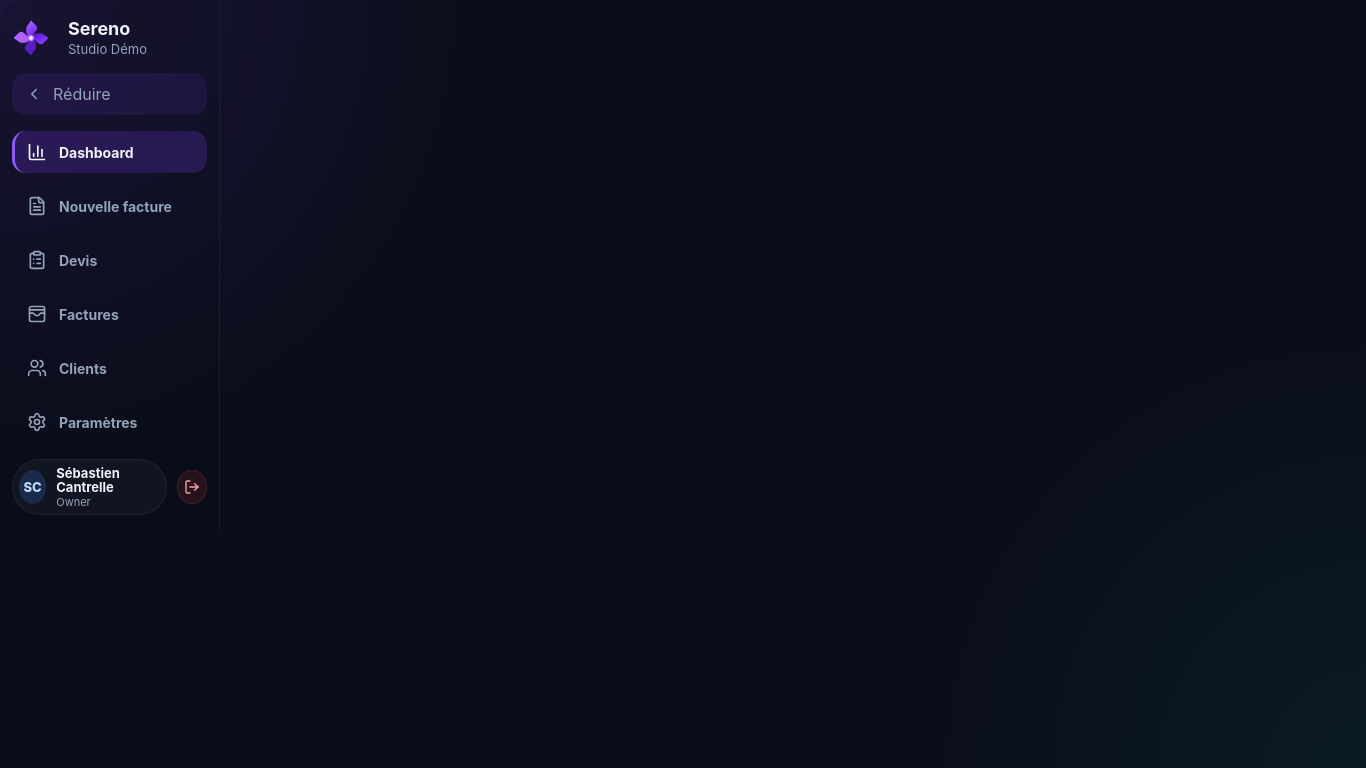
Test: Sidebar › le chevron réduit puis redéploie la sidebar (classe .expanded + libellés conditionnés en JSX)
Expected: the text "Dashboard" is shown, x1=59 y1=144 x2=134 y2=160
Expected: the text "Sereno" is shown, x1=68 y1=18 x2=130 y2=39
Step 1. Click the button with aria-label "Réduire le menu" → coordinates (110, 94), box x1=12 y1=73 x2=207 y2=115
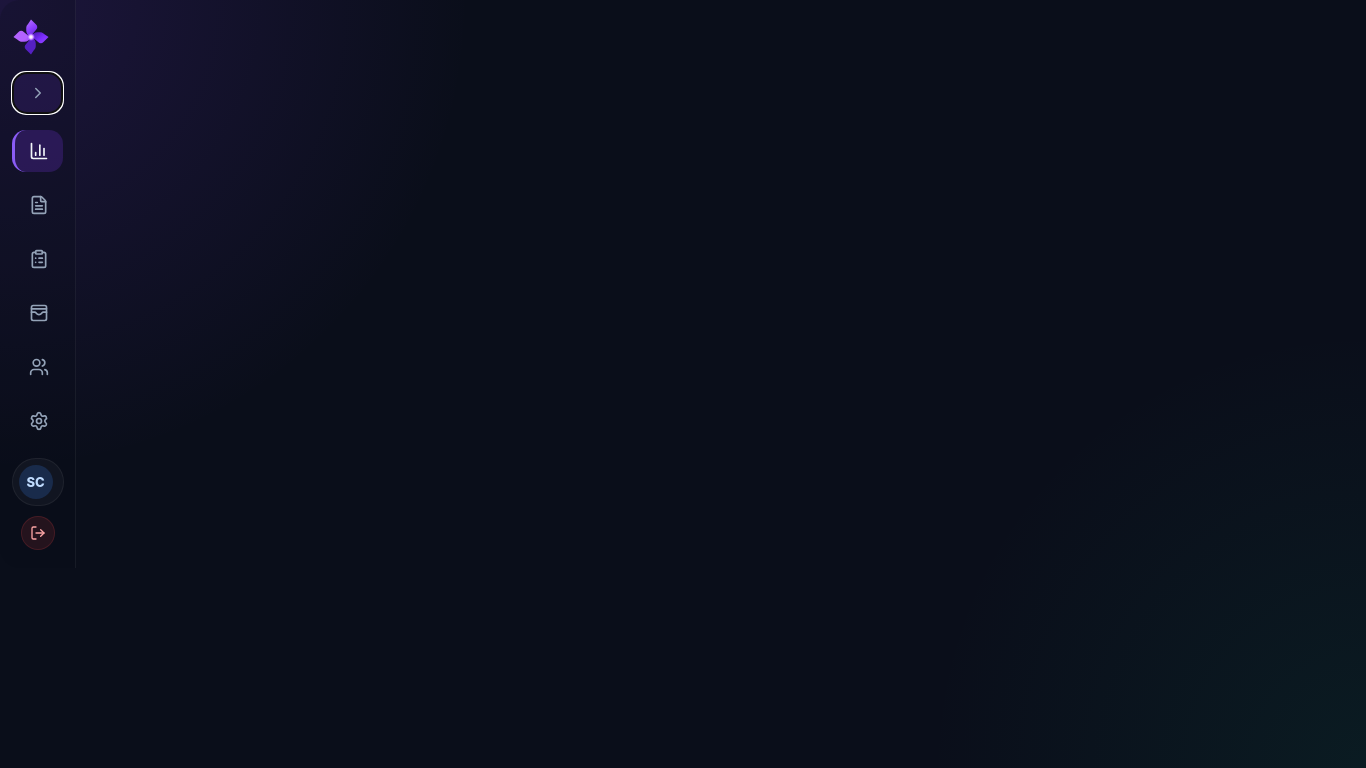
Expected: the text "Sereno" is gone
Expected: the button named "Développer le menu" is shown
Step 2. Click the button named "Développer le menu" → coordinates (38, 93), box x1=12 y1=72 x2=63 y2=114
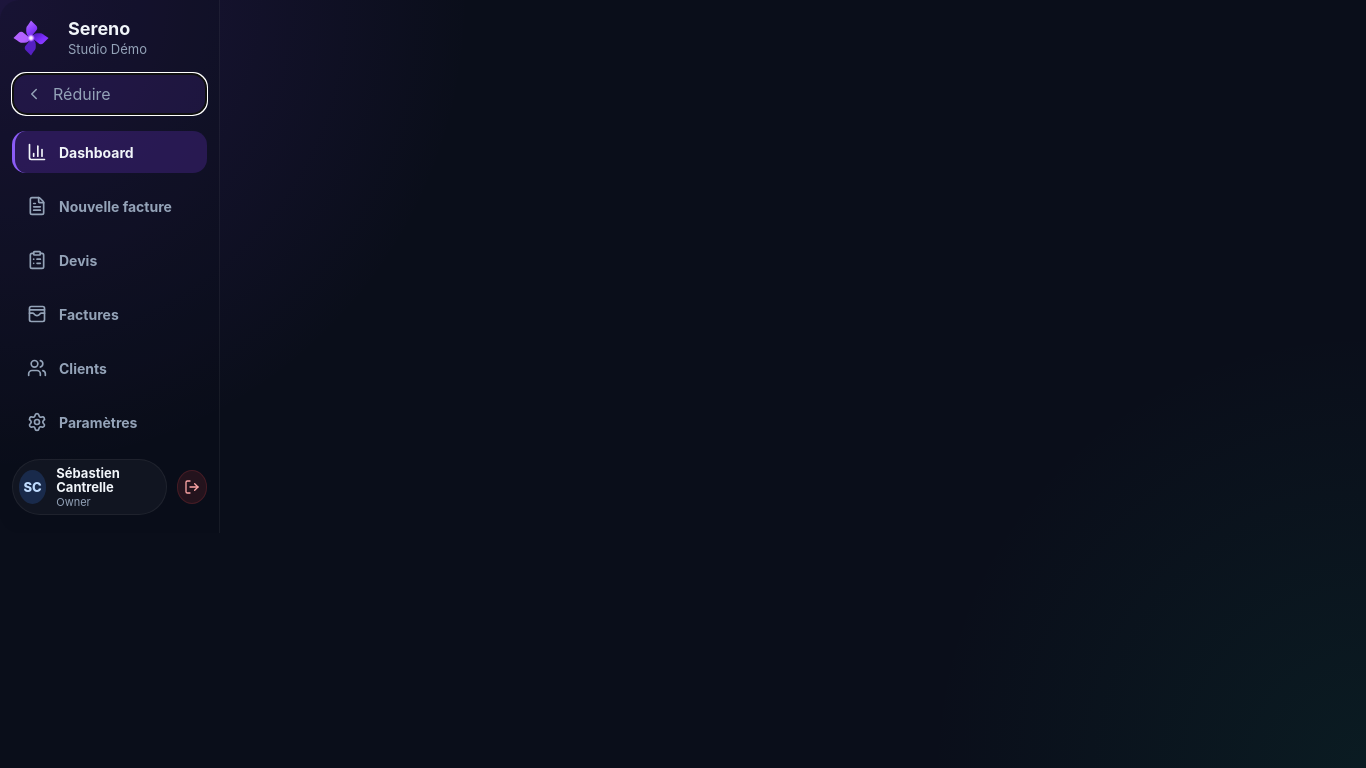
Expected: the text "Sereno" is shown, x1=68 y1=18 x2=130 y2=39
